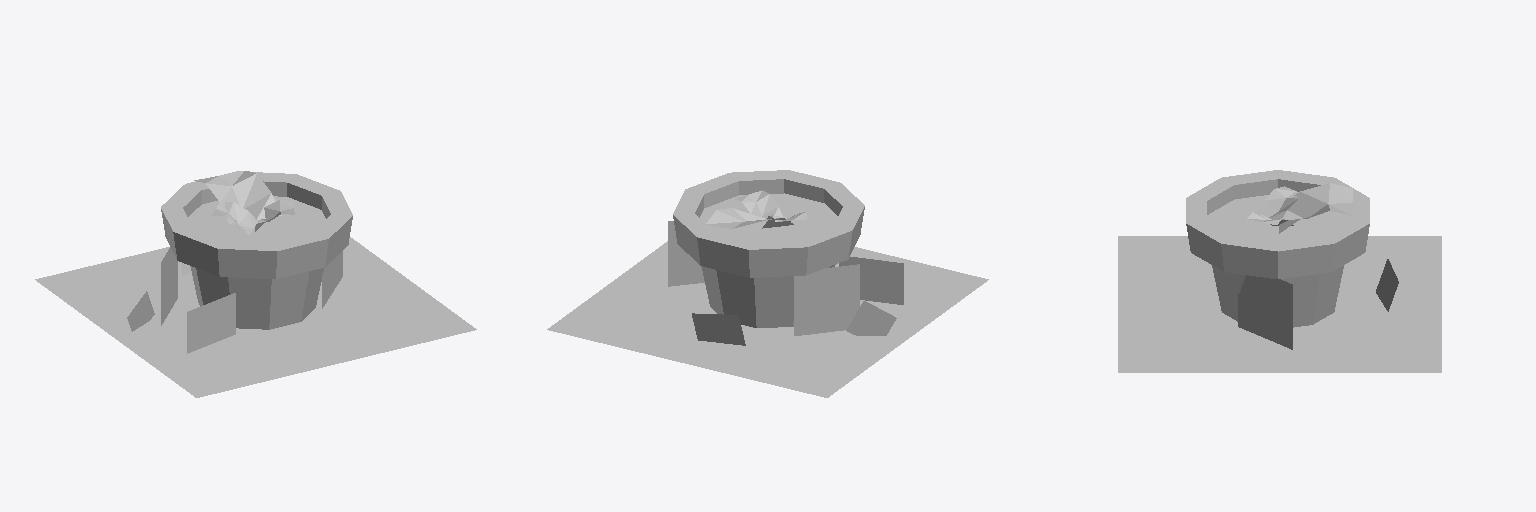
The model's file is caladio2.obj.
3 renders of one model, left to right at view 1: azimuth 30°, elevation 25°; view 2: azimuth 150°, elevation 25°; view 3: azimuth 270°, elevation 25°, orthographic.
Parts seen in each view (by area): view 1: Stylizedplants_model.001; view 2: Stylizedplants_model.001; view 3: Stylizedplants_model.001.
Part boxes in pixels (left/top/right/bottom): Stylizedplants_model.001: left=35, top=171, right=476, bottom=397; Stylizedplants_model.001: left=547, top=170, right=988, bottom=397; Stylizedplants_model.001: left=1118, top=170, right=1441, bottom=372.
Bounding box in the file's own units: 45.19 × 18.63 × 45.19.